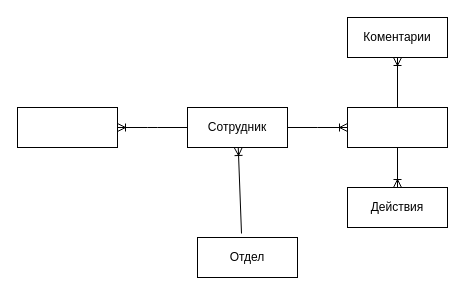
Image size: 465x295. Some labels were removed from this diagram. The centre of each missing label's shape, as x and y in pixels:
"Заявка" belongs at [397,127].
"Уведомление" belongs at [67,127].
